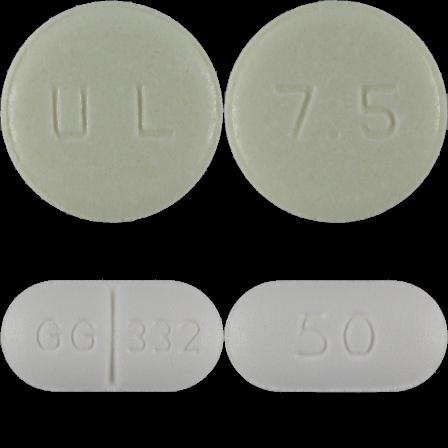51655-731: (0, 0, 224, 224)
